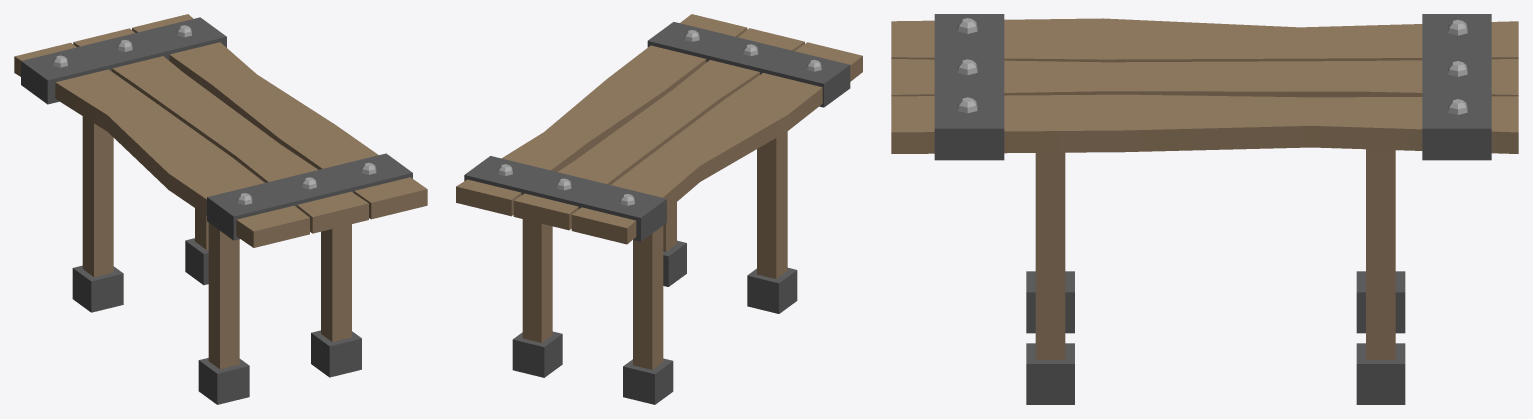
File: env_Table.fbx
The picture shows the model from 3 angles, left to right: view 1: azimuth 30°, elevation 25°; view 2: azimuth 150°, elevation 25°; view 3: azimuth 270°, elevation 25°; orthographic projection. The views are drawn at different scales.
Visible parts, largest first — view 1: env_Table; view 2: env_Table; view 3: env_Table.
Boxes of the visible parts, <box> form: env_Table: <box>14,14,427,404</box>; env_Table: <box>456,14,862,404</box>; env_Table: <box>891,14,1518,404</box>.
Size of the model in its own units: 78.65 by 94.08 by 181.
